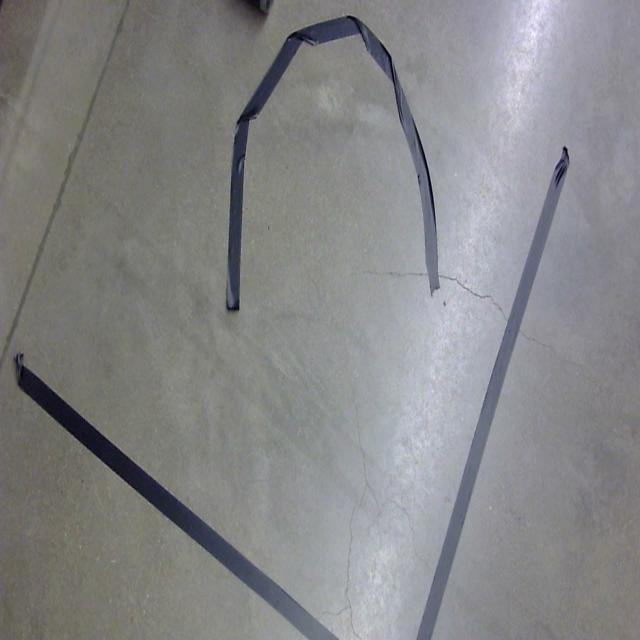tape: (11, 346, 345, 640), (414, 143, 572, 640), (225, 15, 442, 314)
